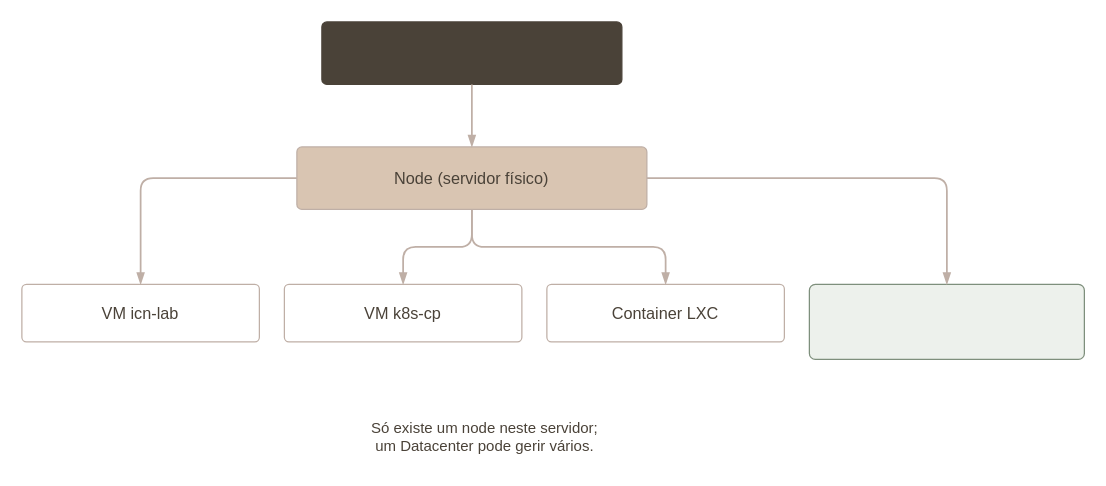
This 1106x486 diagram has some shape labels left out. The shapes that lost their labels are listed below. From the top down, each one's centre as x and y in pixels, then its label:
At point (471, 52): "Datacenter".
At point (946, 321): "Storage (discos, ISOs, templates)".
